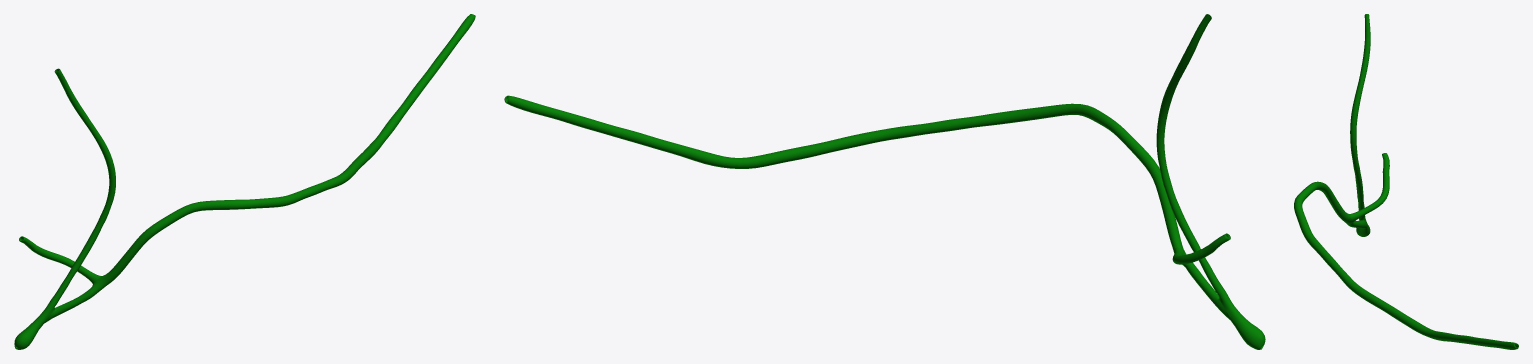
Rendered from VH_F_Ducts_of_Pancreas.fbx.
3 renders of one model, left to right at view 1: azimuth 30°, elevation 25°; view 2: azimuth 150°, elevation 25°; view 3: azimuth 270°, elevation 25°, orthographic. The views are drawn at different scales.
Parts seen in each view (by area): view 1: VH_F_ventral_pancreatic_duct, VH_F_common_bile_duct, VH_F_dorsal_pancreatic_duct, VH_F_hepatopancreatic_ampulla; view 2: VH_F_ventral_pancreatic_duct, VH_F_common_bile_duct, VH_F_hepatopancreatic_ampulla, VH_F_dorsal_pancreatic_duct; view 3: VH_F_ventral_pancreatic_duct, VH_F_common_bile_duct, VH_F_dorsal_pancreatic_duct.
Boxes of the visible parts, x1,y1,x2,y2 form: VH_F_ventral_pancreatic_duct: (45, 14, 475, 322); VH_F_common_bile_duct: (36, 68, 115, 324); VH_F_dorsal_pancreatic_duct: (19, 236, 101, 283); VH_F_hepatopancreatic_ampulla: (14, 319, 43, 349); VH_F_ventral_pancreatic_duct: (504, 95, 1230, 320); VH_F_common_bile_duct: (1156, 14, 1239, 316); VH_F_hepatopancreatic_ampulla: (1229, 312, 1265, 349); VH_F_dorsal_pancreatic_duct: (1172, 233, 1230, 264); VH_F_ventral_pancreatic_duct: (1294, 181, 1518, 349); VH_F_common_bile_duct: (1350, 14, 1370, 223); VH_F_dorsal_pancreatic_duct: (1350, 153, 1389, 221).
Bounding box in the file's own units: 15.82 × 7.47 × 6.35.
